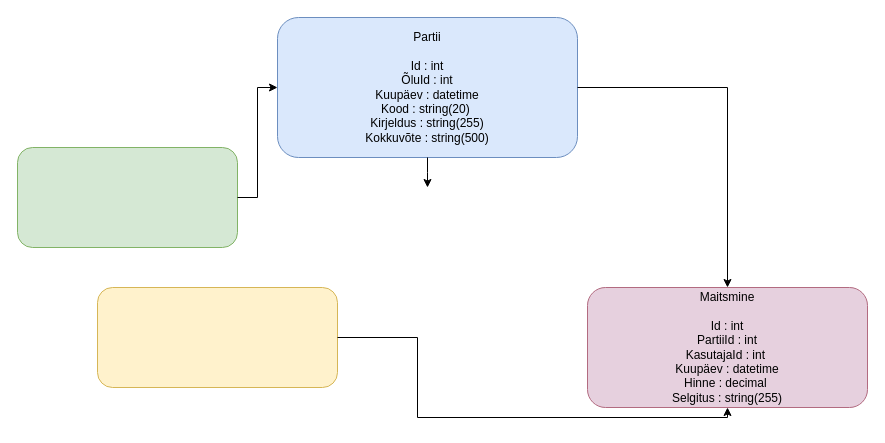
Image size: 885x443. Some labels were removed from this diagram. The centre of each missing label's shape, as x and y in pixels:
Koostisosa Id : int Nimetus : string(100) Ühik : string(20) Ühikuhind : decimal: (217,337)
Õlu Id : int Nimi : string(100) Kirjeldus : string(255): (127,197)
